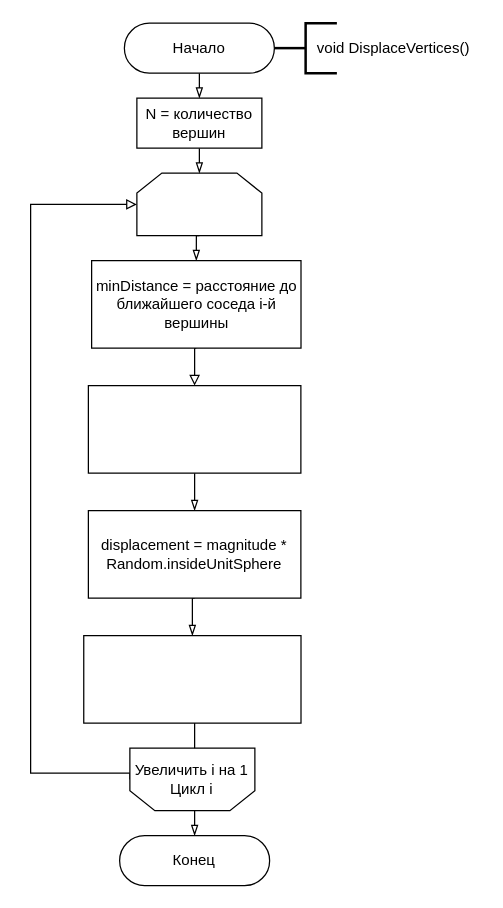
Some shapes in this 503 by 908 pixel diagram are drawn without their labels. Here are the shapes that lost their labels. From the top down, the centre of each, then its label:
At (x=199, y=204): "Цикл i от 0 до N".
At (x=194, y=428): "magnitude = Random.value * (minDistance / 3)".
At (x=191, y=678): "Сместить i-ю вершину на displacement".
